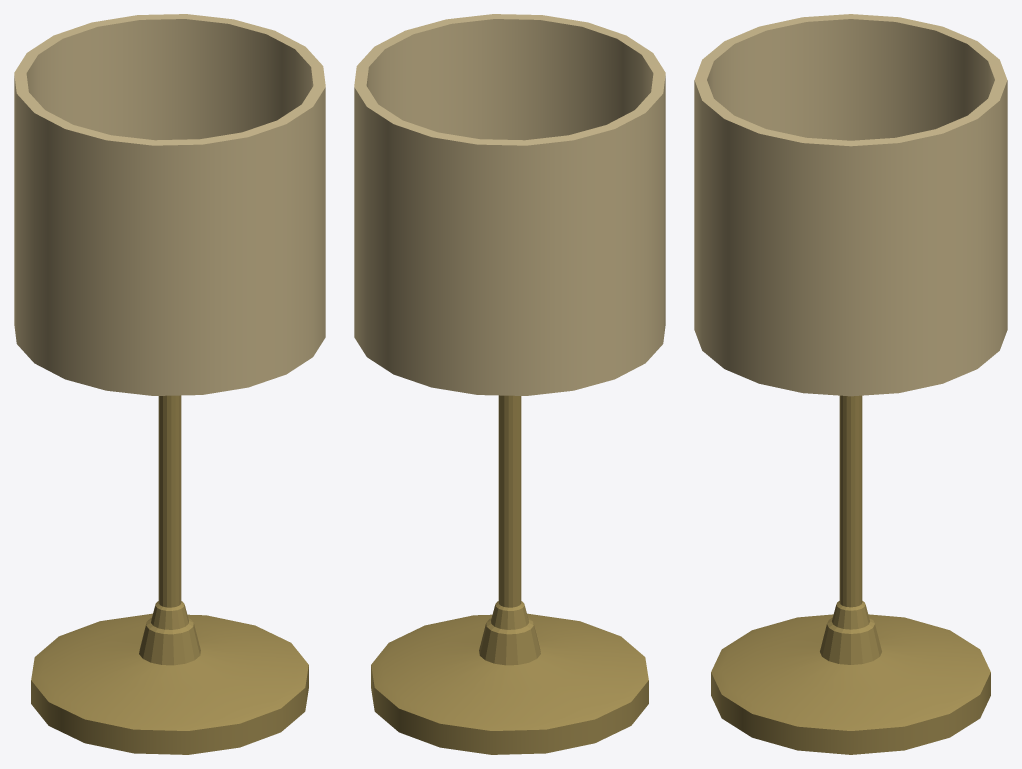
Rendered from Lamp.fbx.
3 views of the same model, side by side, from view 1: azimuth 30°, elevation 25°; view 2: azimuth 150°, elevation 25°; view 3: azimuth 270°, elevation 25° (orthographic).
Parts seen in each view (by area): view 1: pTorus1, Lamp; view 2: pTorus1, Lamp; view 3: pTorus1, Lamp.
Boxes of the visible parts, x1,y1,x2,y2 form: pTorus1: (14,14,325,395); Lamp: (31,395,308,754); pTorus1: (354,14,665,395); Lamp: (371,395,648,754); pTorus1: (694,14,1007,396); Lamp: (711,395,990,754).
Bounding box in the file's own units: 3.97 × 8.62 × 3.97.
